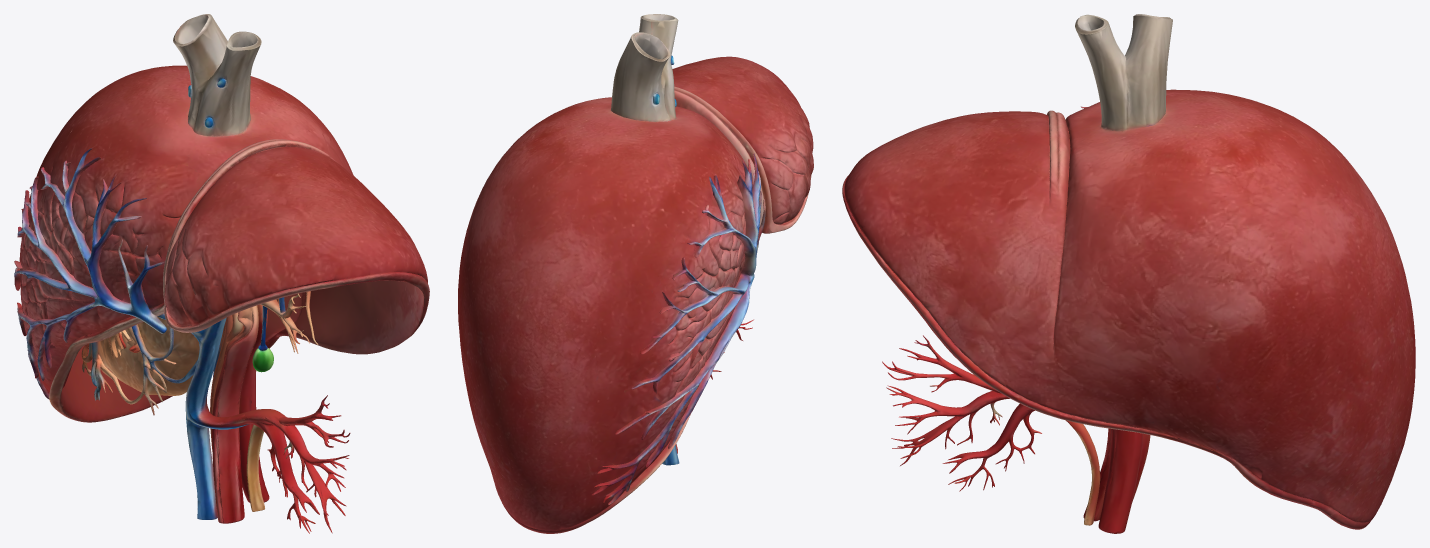
Rendered from liver-healthy.glb.
3 renders of one model, left to right at view 1: azimuth 30°, elevation 25°; view 2: azimuth 150°, elevation 25°; view 3: azimuth 270°, elevation 25°, orthographic. The views are drawn at different scales.
Visible parts, largest first — view 1: model; view 2: model; view 3: model.
Boxes of the visible parts, bbox=[...] form: model: bbox=[14, 14, 429, 533]; model: bbox=[458, 14, 813, 533]; model: bbox=[842, 14, 1415, 533].
Size of the model in its own units: 1.08 by 1.85 by 1.9.
1 material, 1 textured.
